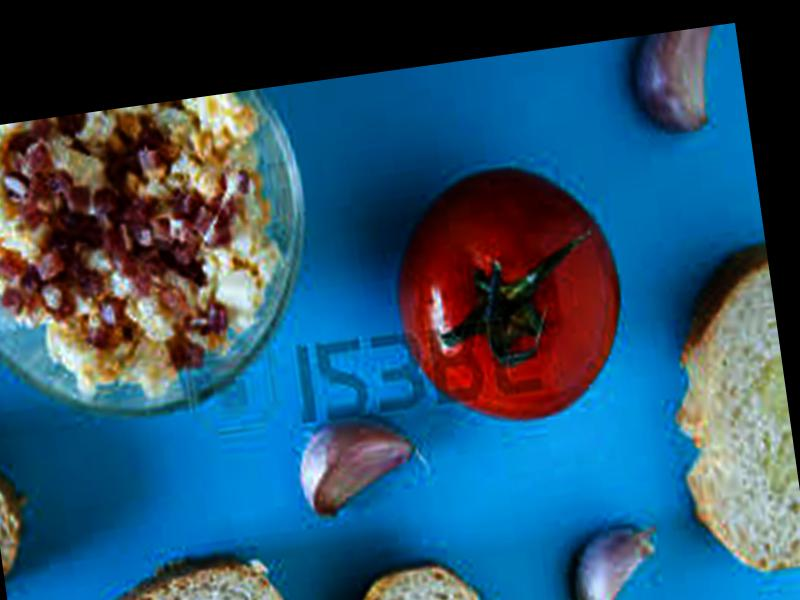Tomato: (390, 156, 636, 436)
